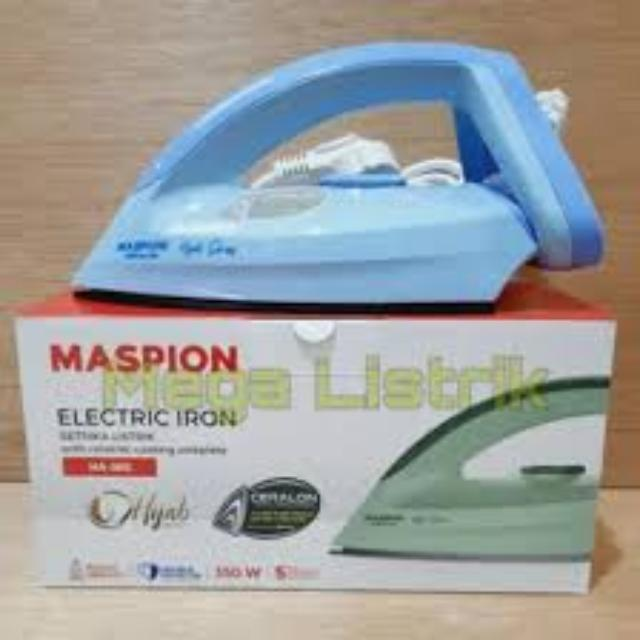Clothes-Iron: (79, 26, 582, 296)
